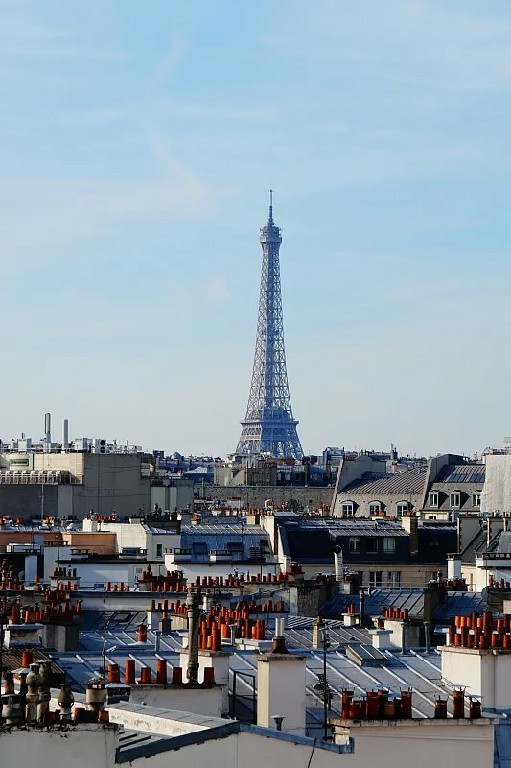Eiffel: (235, 189, 305, 460)
